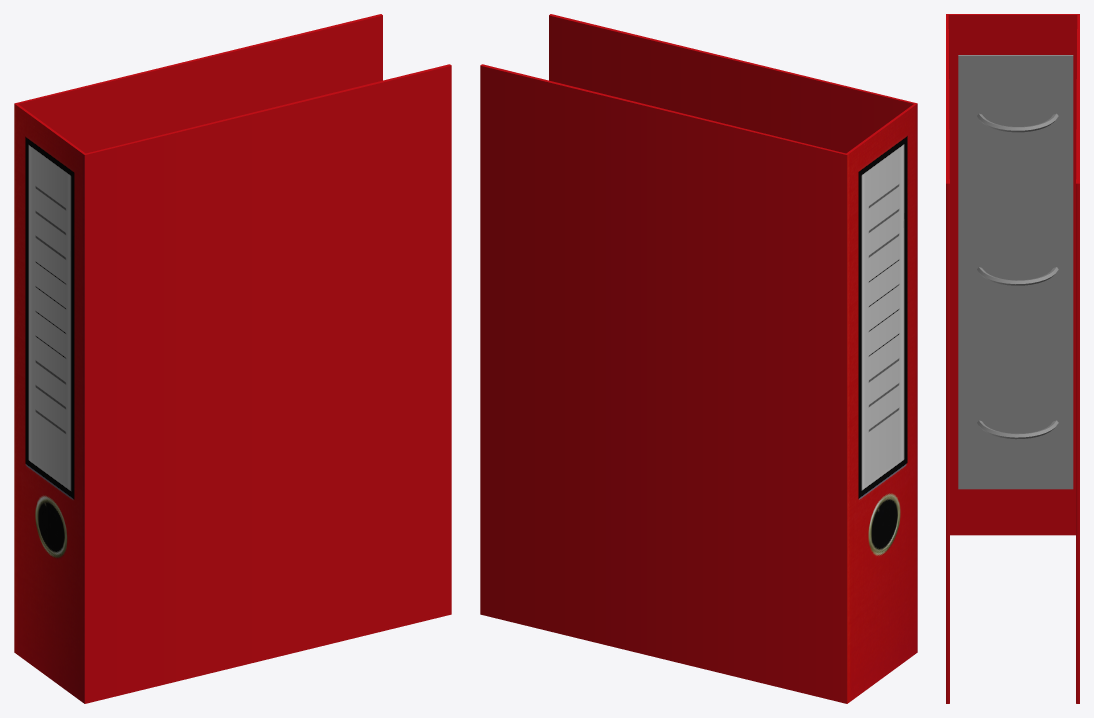
Rendered from Folder 2.fbx.
3 renders of one model, left to right at view 1: azimuth 30°, elevation 25°; view 2: azimuth 150°, elevation 25°; view 3: azimuth 270°, elevation 25°, orthographic. The views are drawn at different scales.
Parts seen in each view (by area): view 1: Folder 2; view 2: Folder 2; view 3: Folder 2.
Part boxes in pixels (bbox=[...]): Folder 2: bbox=[14, 14, 451, 703]; Folder 2: bbox=[480, 14, 917, 703]; Folder 2: bbox=[946, 14, 1079, 703].
Size of the model in its own units: 21 by 30 by 7.
